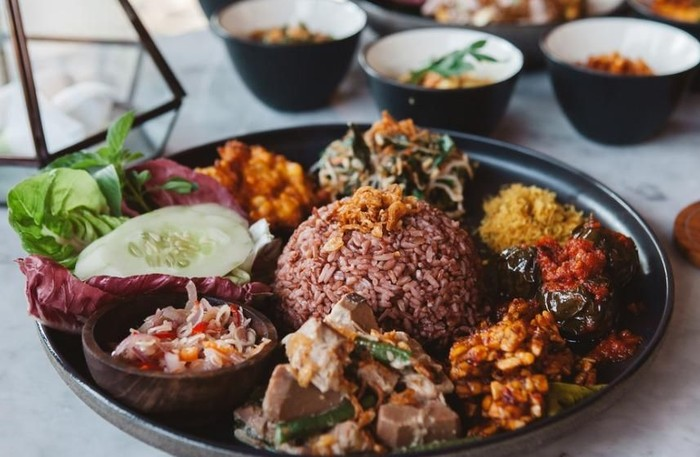Nasi Merah: (270, 174, 481, 358)
